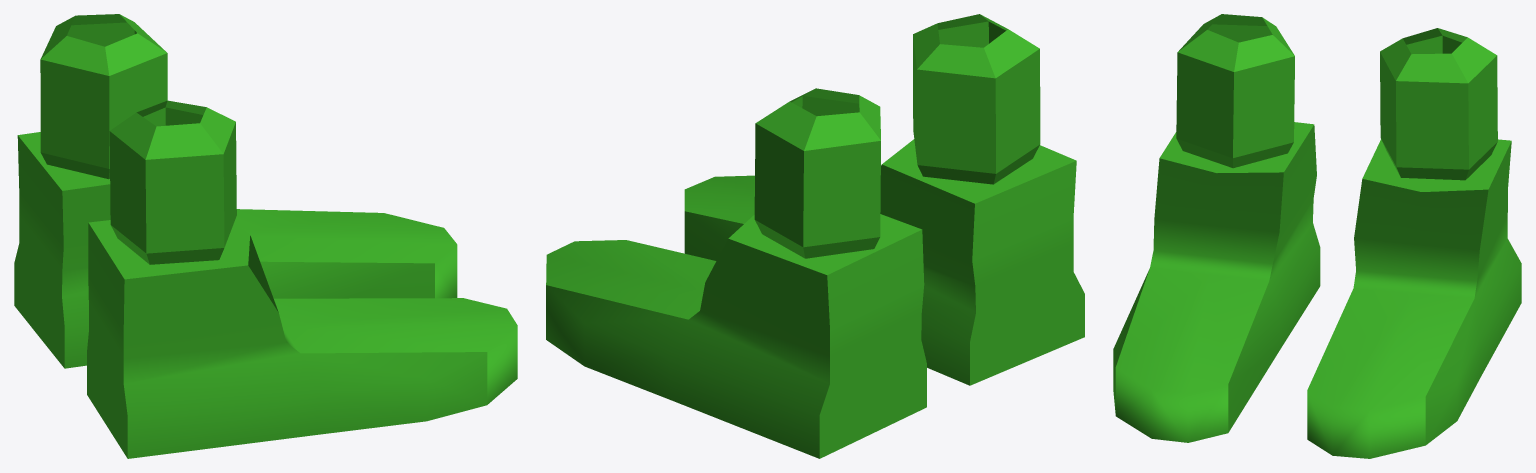
Rendered from Double jump boots.fbx.
3 renders of one model, left to right at view 1: azimuth 30°, elevation 25°; view 2: azimuth 150°, elevation 25°; view 3: azimuth 270°, elevation 25°, orthographic. The views are drawn at different scales.
Parts seen in each view (by area): view 1: polySurface11, polySurface12, polySurface13, polySurface14; view 2: polySurface12, polySurface11, polySurface13, polySurface14; view 3: polySurface12, polySurface11, polySurface13, polySurface14.
Boxes of the visible parts, bbox=[...] form: polySurface11: bbox=[87, 220, 517, 458]; polySurface12: bbox=[14, 132, 457, 368]; polySurface13: bbox=[109, 100, 236, 264]; polySurface14: bbox=[40, 14, 167, 179]; polySurface12: bbox=[546, 214, 926, 458]; polySurface11: bbox=[684, 139, 1084, 385]; polySurface13: bbox=[913, 14, 1040, 184]; polySurface14: bbox=[754, 88, 880, 258]; polySurface12: bbox=[1307, 139, 1521, 458]; polySurface11: bbox=[1113, 122, 1320, 442]; polySurface13: bbox=[1176, 14, 1294, 168]; polySurface14: bbox=[1380, 28, 1497, 180].
Size of the model in its own units: 0.4147 by 0.2868 by 0.3795.
